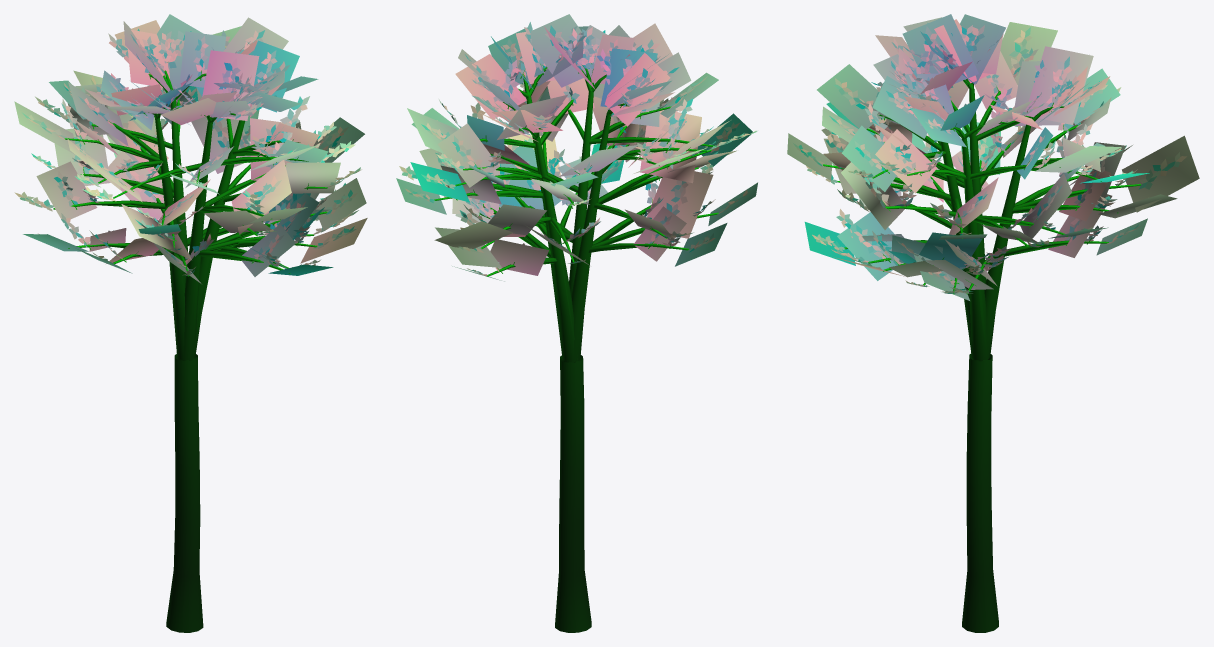
File: tall_shade_1.glb
3 renders of one model, left to right at view 1: azimuth 30°, elevation 25°; view 2: azimuth 150°, elevation 25°; view 3: azimuth 270°, elevation 25°, orthographic.
Visible parts, largest first — view 1: mid, near; view 2: mid, near; view 3: mid, near.
Boxes of the visible parts, <box> form: mid: <box>14,14,367,360</box>; near: <box>14,29,361,632</box>; mid: <box>396,14,757,362</box>; near: <box>399,22,757,632</box>; mid: <box>787,14,1199,361</box>; near: <box>793,23,1186,632</box>.
Size of the model in its own units: 11.94 by 20.91 by 13.57.
